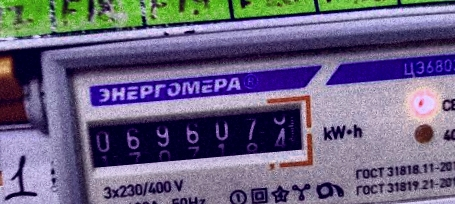0: (92, 128, 111, 153), (211, 115, 228, 142)
4: (269, 125, 287, 150)
6: (122, 125, 141, 150), (182, 119, 201, 144)
7: (241, 115, 259, 142)
9: (152, 122, 170, 148)
screen: (71, 88, 319, 183)
